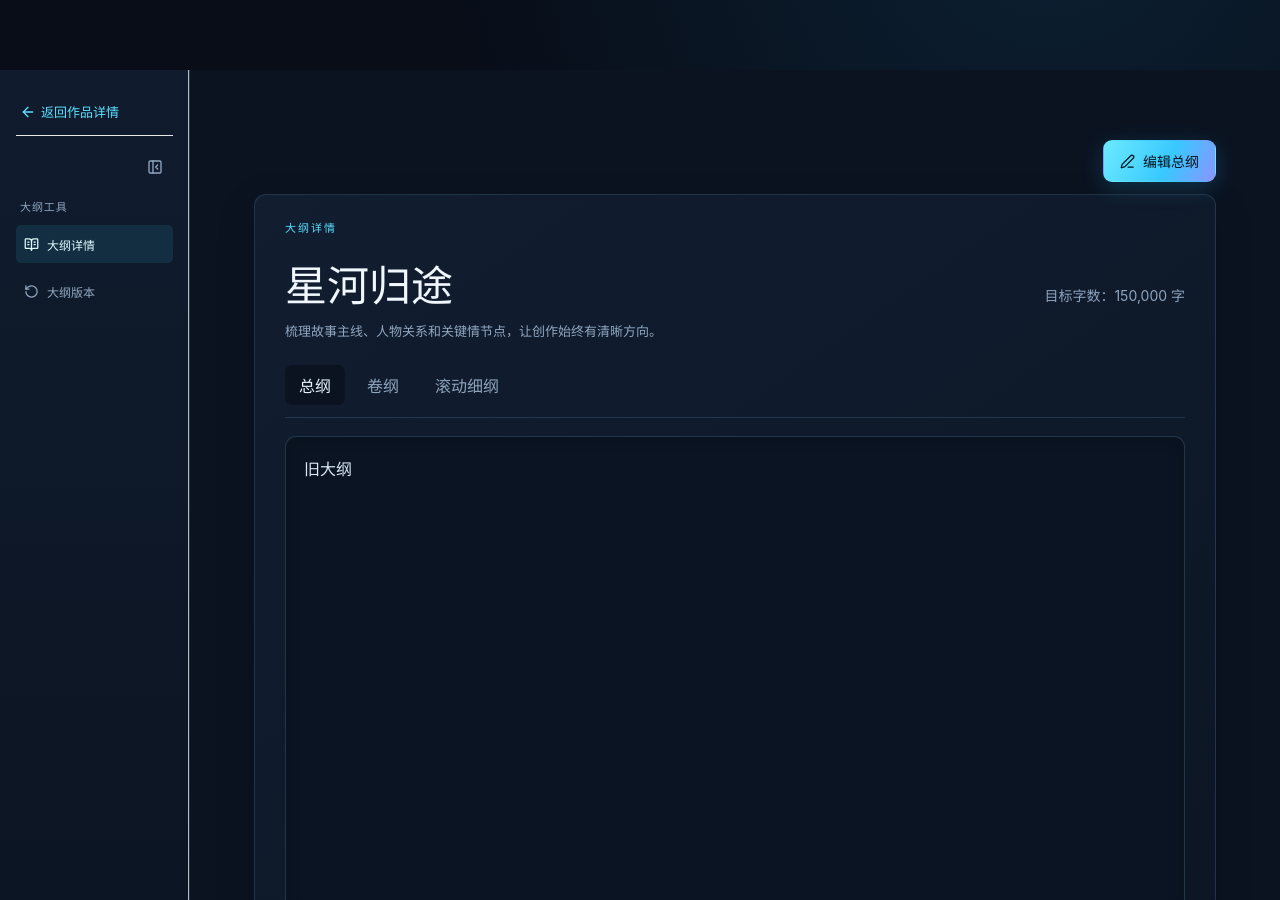
Test case: 大纲详情页 › 细纲生成失败时不会创建新的章节
The image size is (1280, 900).
Click the tab "滚动细纲": (467, 385) [421,365,513,405]
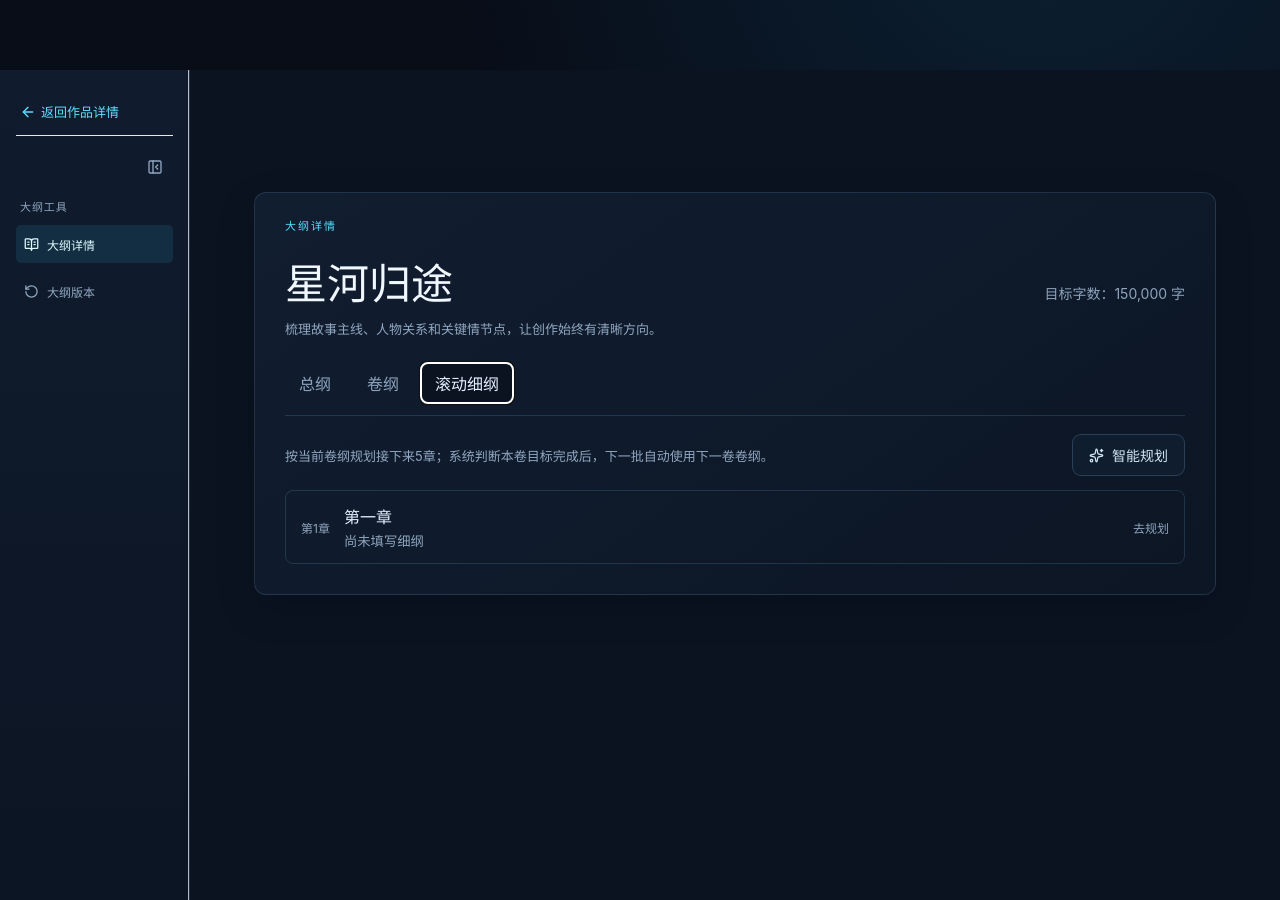
Expected: the text "第一章" is shown, [344,507,392,527]
Click the button with aria-label "智能规划滚动细纲": (1128, 455) [1072,434,1185,476]
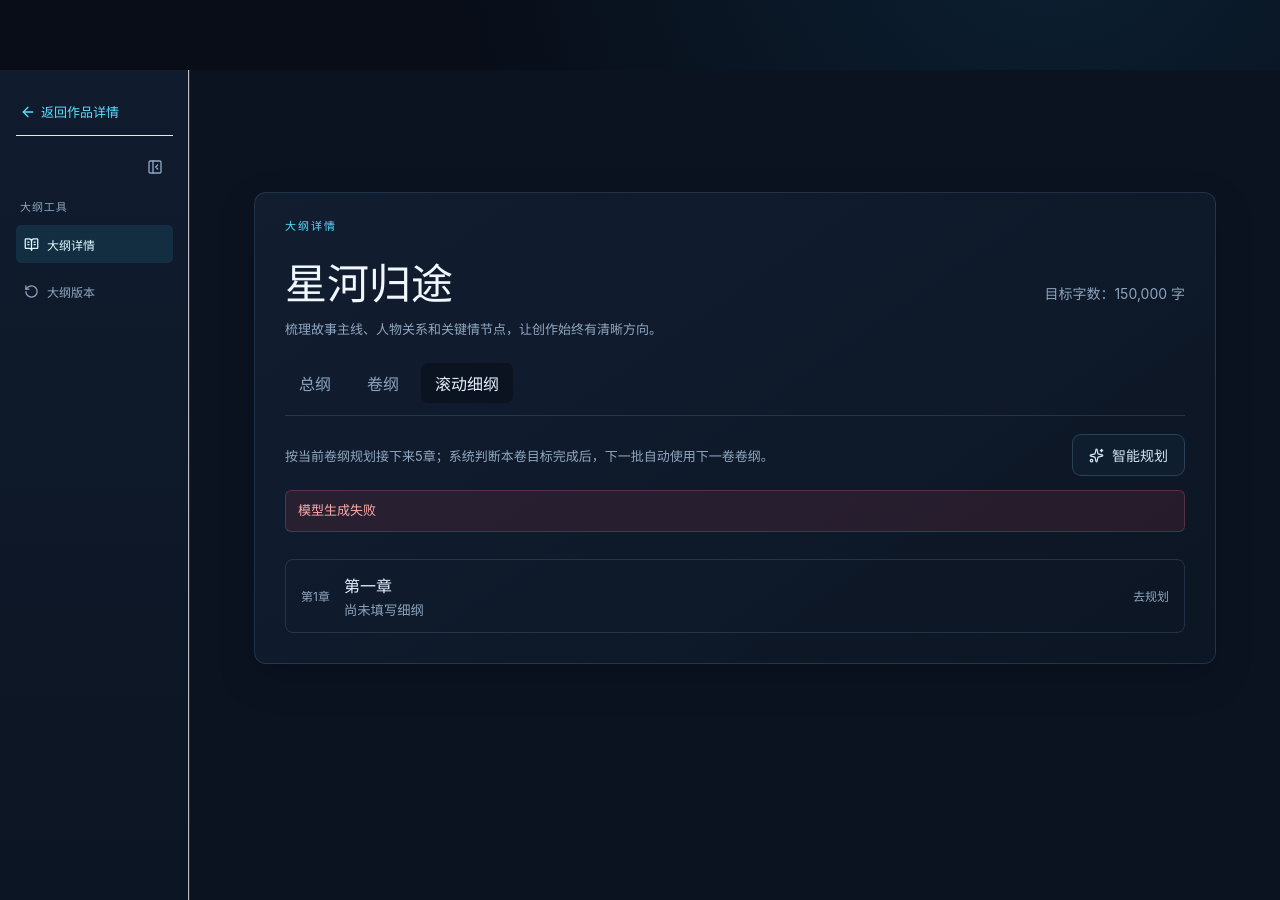
Expected: the message reads "模型生成失败", [298,502,376,518]
